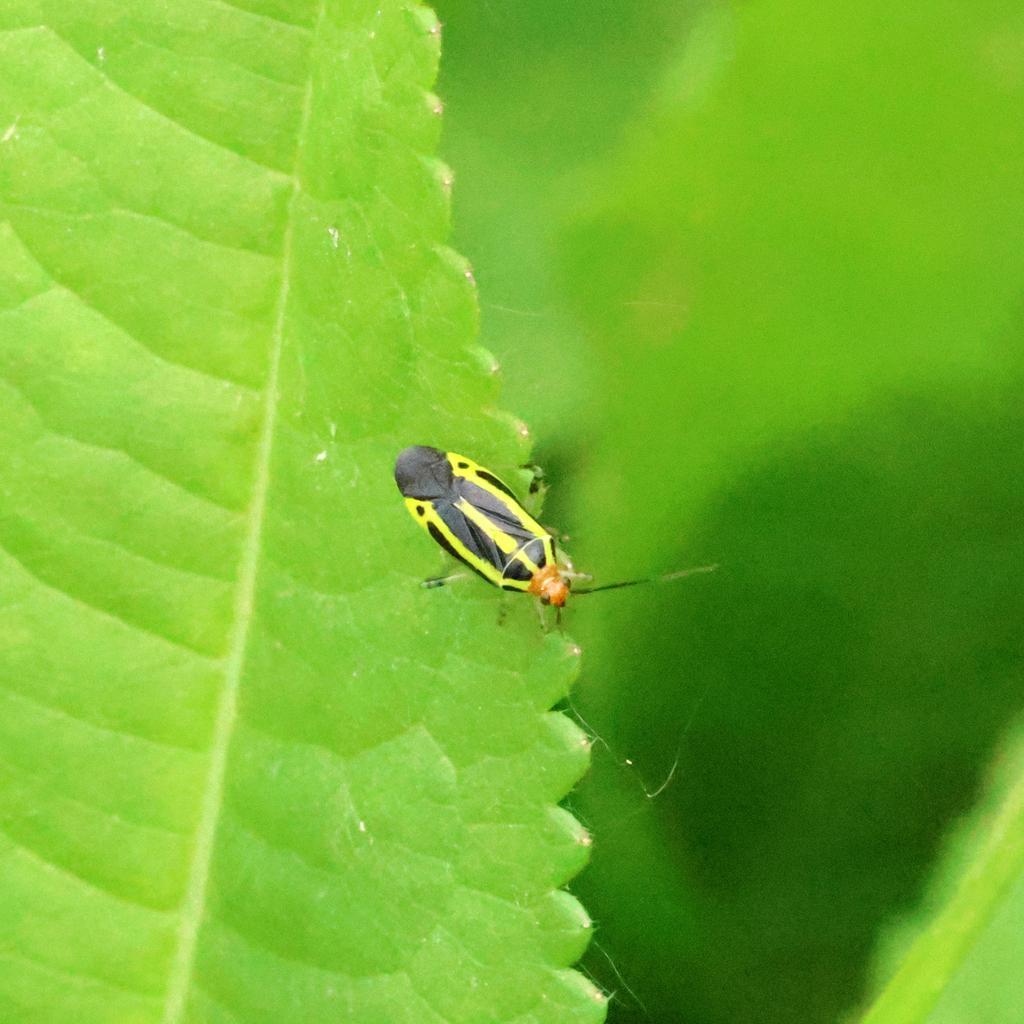plant_bugs: (306, 381, 744, 716)
